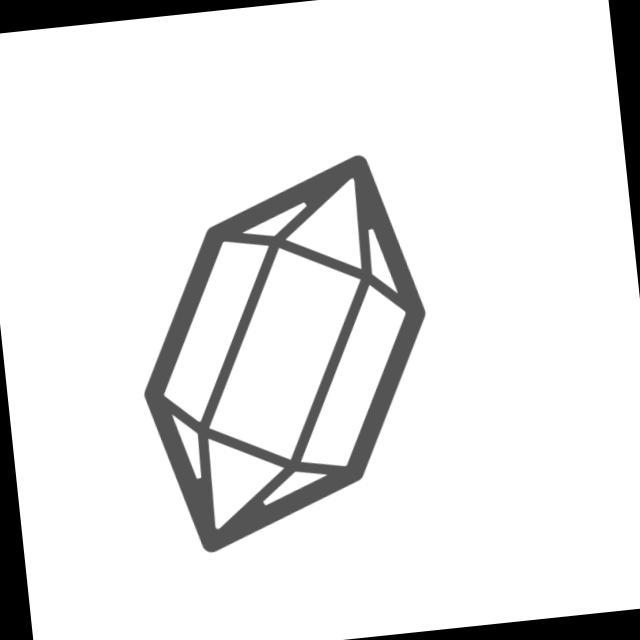crystal: (114, 142, 455, 564)
